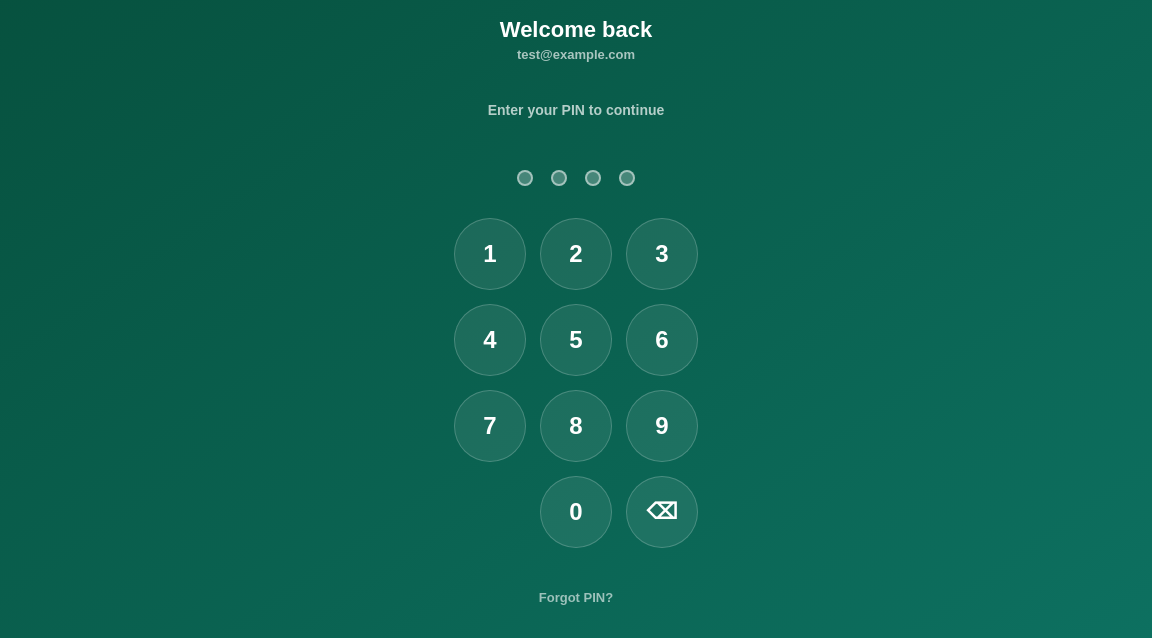
Test case: PinScreen › shows forgot confirmation UI when Forgot PIN? tapped
(page scrolled)
Click the button with test id "forgot-pin-btn": (576, 598) [539, 590, 613, 605]
(page scrolled)
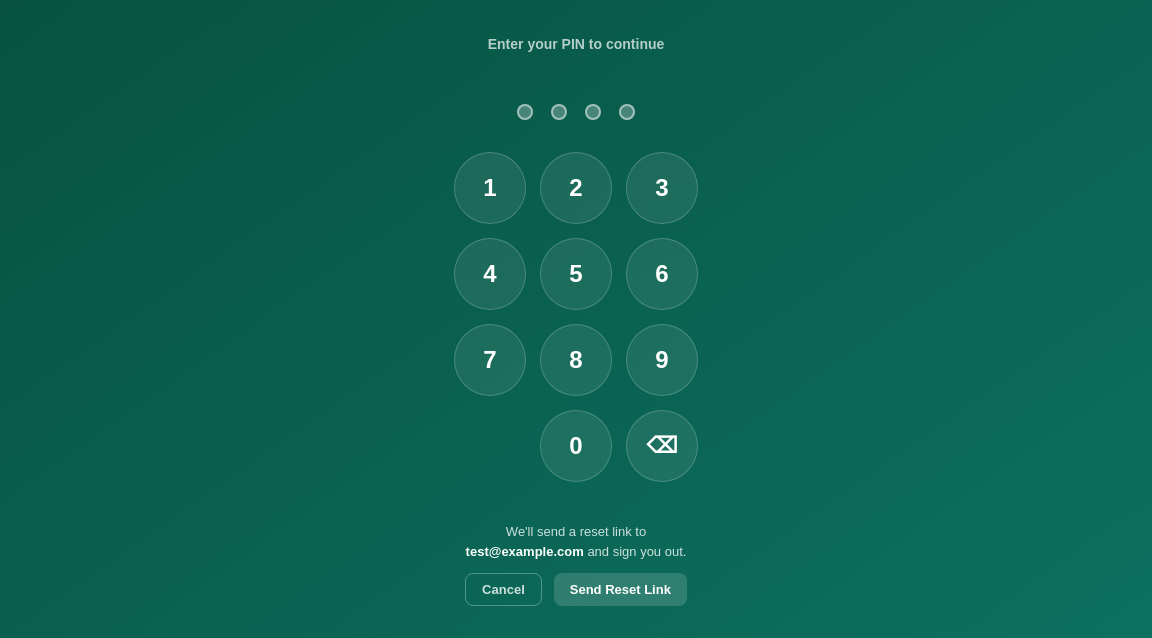
Now the button with test id "forgot-pin-confirm-btn" is shown, box [554, 573, 687, 606]
